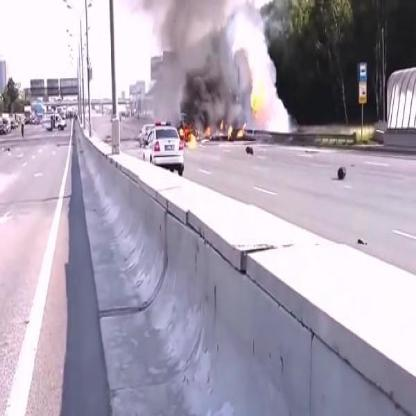fire: (179, 125, 199, 149), (219, 119, 234, 139), (236, 120, 248, 140), (203, 125, 212, 137)
